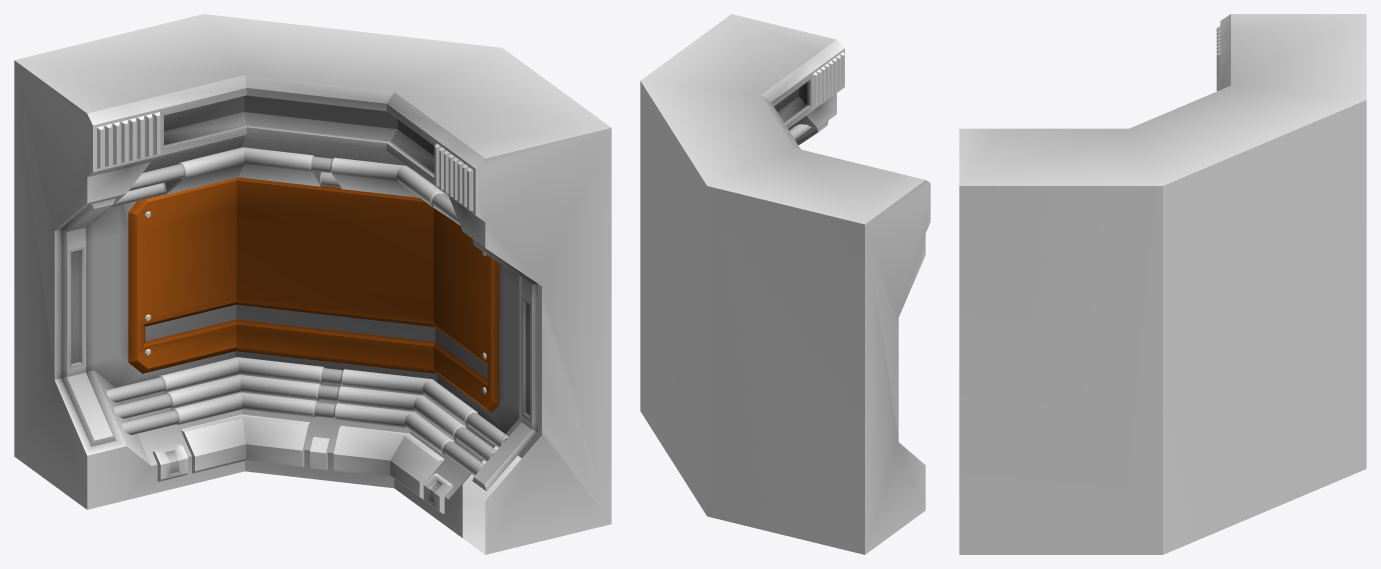
File: wallCurveIn.FBX
3 views of the same model, side by side, from view 1: azimuth 30°, elevation 25°; view 2: azimuth 150°, elevation 25°; view 3: azimuth 270°, elevation 25° (orthographic). The views are drawn at different scales.
Parts seen in each view (by area): view 1: wallCurveIn; view 2: wallCurveIn; view 3: wallCurveIn.
Part boxes in pixels (bbox=[...]): wallCurveIn: bbox=[14, 14, 611, 554]; wallCurveIn: bbox=[640, 14, 930, 554]; wallCurveIn: bbox=[959, 14, 1366, 554].
Size of the model in its own units: 3 by 3 by 3.
